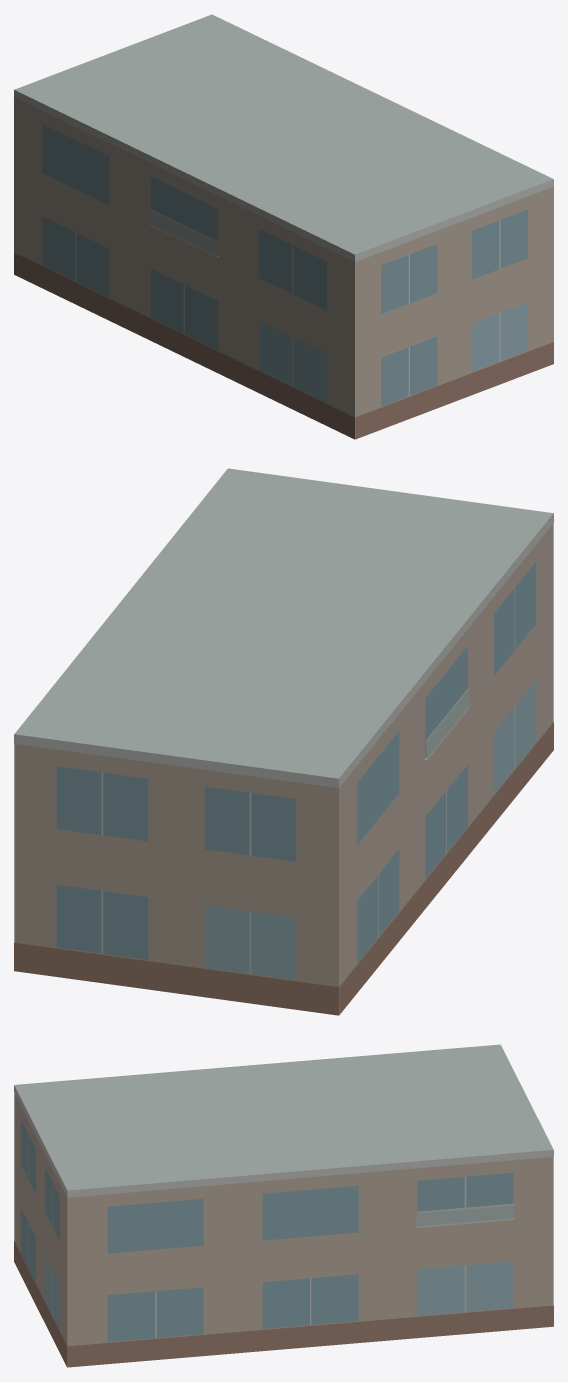
The model's file is survey-upis-32891569.glb.
3 views of the same model, one above another, from view 1: azimuth 30°, elevation 25°; view 2: azimuth 150°, elevation 25°; view 3: azimuth 270°, elevation 25° (orthographic). The views are drawn at different scales.
Parts seen in each view (by area): view 1: survey-upis-32891569.tmp; view 2: survey-upis-32891569.tmp; view 3: survey-upis-32891569.tmp.
Boxes of the visible parts, box(x1,y1,x2,y2) form: survey-upis-32891569.tmp: box(14, 14, 553, 439); survey-upis-32891569.tmp: box(14, 468, 553, 1015); survey-upis-32891569.tmp: box(14, 1044, 553, 1367).
Bounding box in the file's own units: 10.83 × 6.1 × 16.88.
